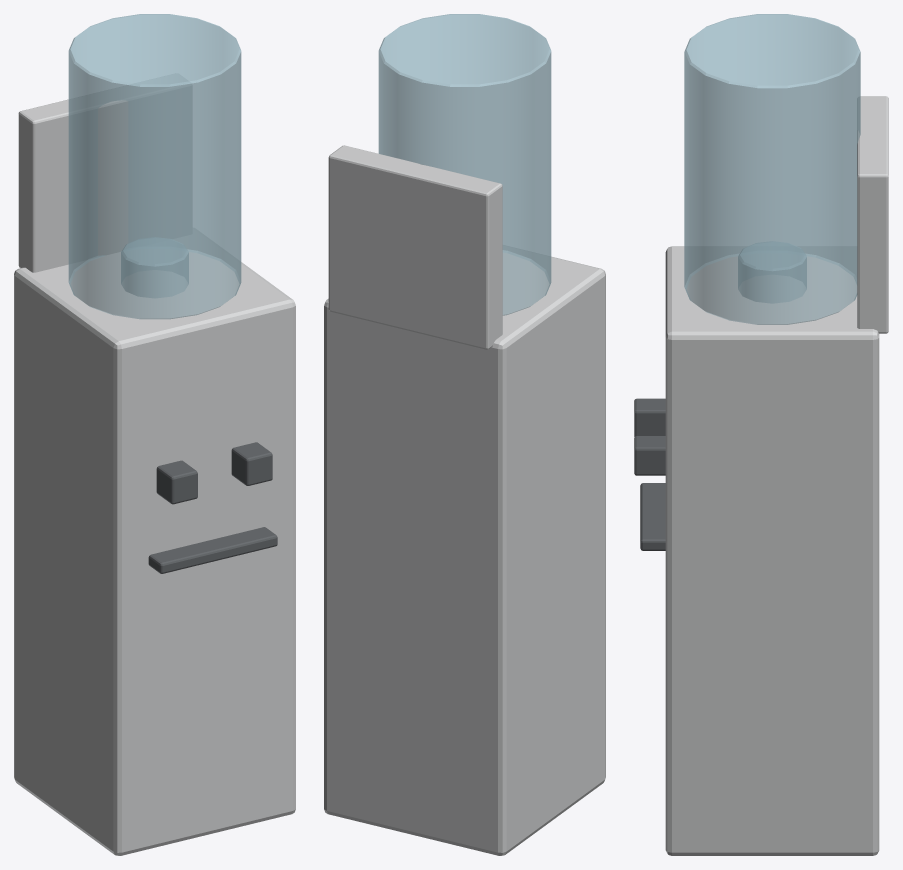
Rendered from waterCooler.glb.
3 views of the same model, side by side, from view 1: azimuth 30°, elevation 25°; view 2: azimuth 150°, elevation 25°; view 3: azimuth 270°, elevation 25° (orthographic).
Visible parts, largest first — view 1: waterCooler; view 2: waterCooler; view 3: waterCooler.
Part boxes in pixels (<box>): waterCooler: <box>14,14,295,855</box>; waterCooler: <box>324,14,605,855</box>; waterCooler: <box>634,14,888,855</box>.
Bounding box in the file's own units: 0.34 × 1.34 × 0.405.
